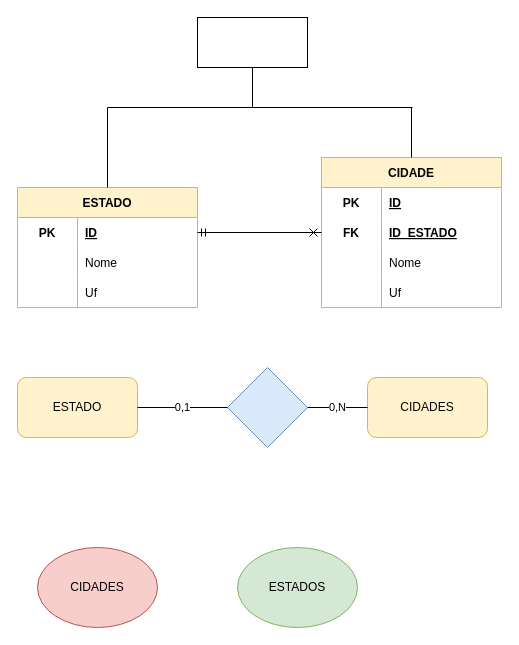
Image size: 519x645. Some labels were removed from this diagram. Each missing label, with the centre of its shape:
"LOCALIDADES" belongs at point (252, 42).
"POSSUI" belongs at point (267, 407).
